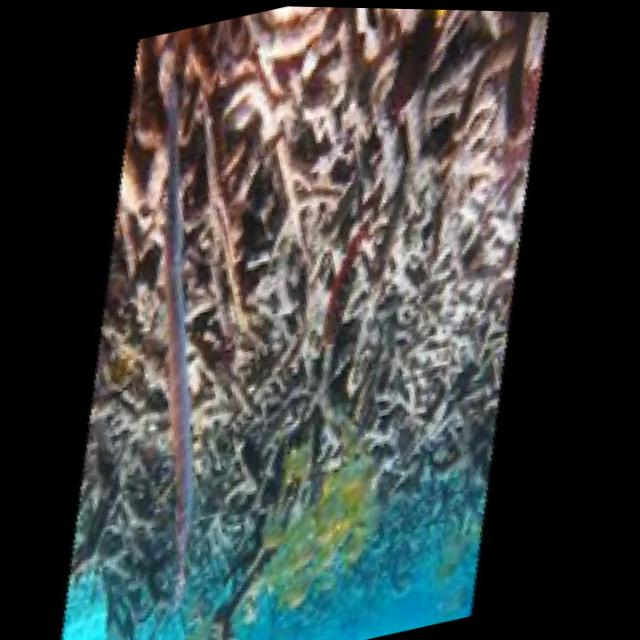Dead Coral: (61, 10, 554, 582)
